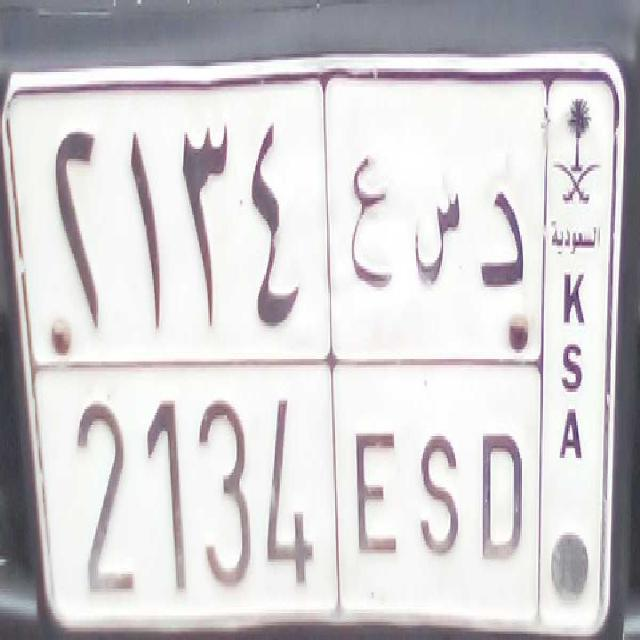license_plate: (28, 350, 538, 631)
